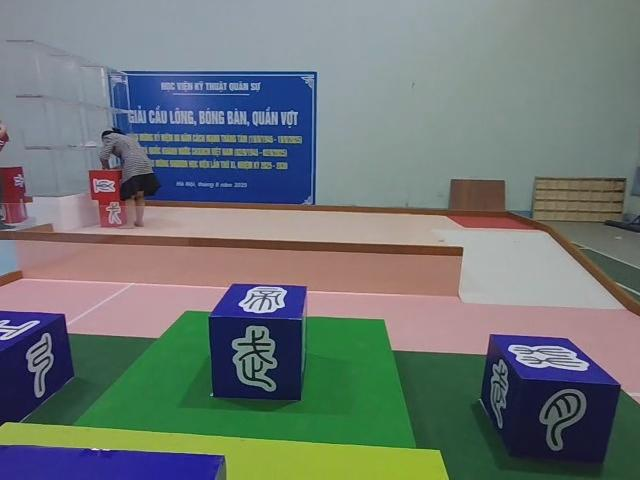R2 Fake Blue: (482, 332, 620, 469), (210, 283, 312, 402), (0, 312, 74, 427)
